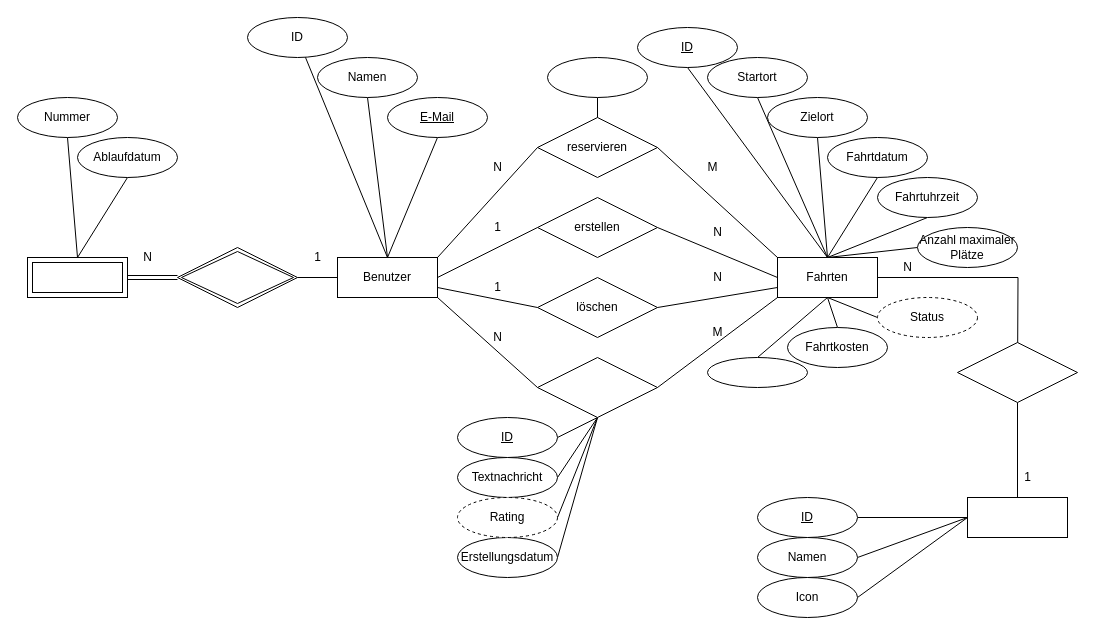
Image size: 1095x635. Some labels were removed from this diagram. The shapes that lost their labels are listed below. From the top down, each one's centre as x and y in pixels, then its label:
At (597,77): "Anzahl zu reservierenden Plätze".
At (77,277): "Fahrerlaubnis".
At (237,277): "besitzen".
At (597,387): "bewerten".
At (757,372): "Beschreibung".
At (1017,372): "zuordnen".
At (1017,517): "Transportmittel".
